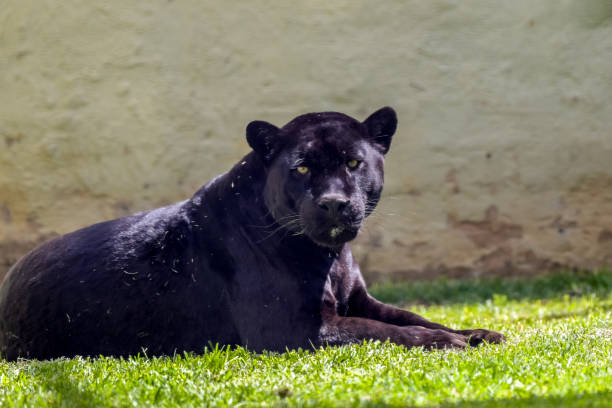panther: (225, 100, 421, 270)
